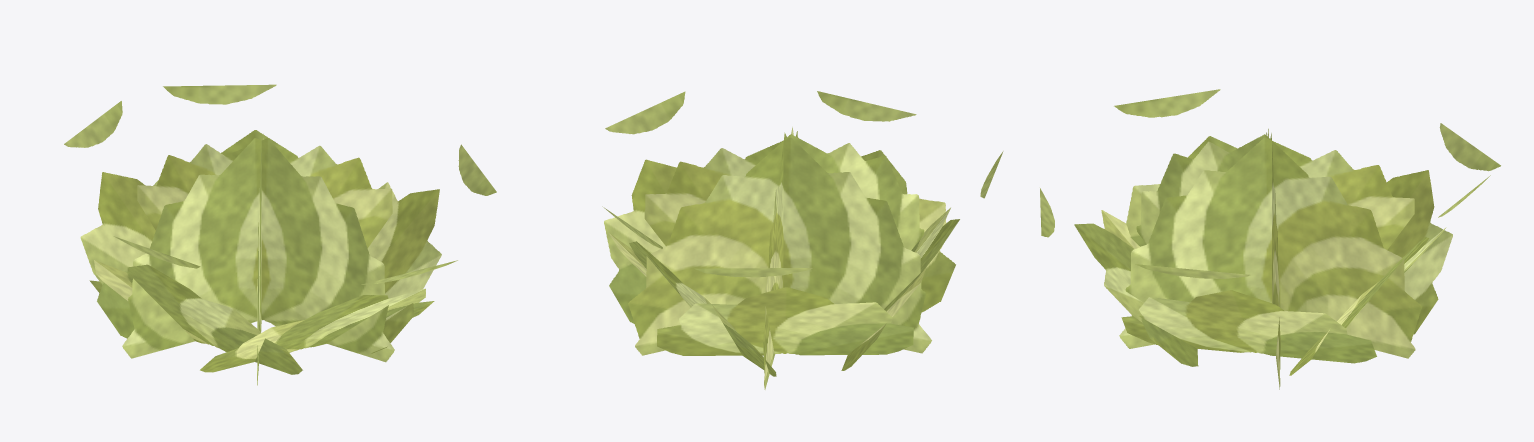
The model's file is crop_lettuce_2.glb.
The picture shows the model from 3 angles, left to right: view 1: azimuth 30°, elevation 25°; view 2: azimuth 150°, elevation 25°; view 3: azimuth 270°, elevation 25°; orthographic projection.
Visible parts, largest first — view 1: crop_lettuce_2; view 2: crop_lettuce_2; view 3: crop_lettuce_2.
Boxes of the visible parts, x1,y1,x2,y2 form: crop_lettuce_2: (64,84,496,385); crop_lettuce_2: (602,91,1003,389); crop_lettuce_2: (1040,89,1500,389).
Size of the model in its own units: 0.6592 by 0.3 by 0.64.
Materials: 1 (1 with a texture image).
